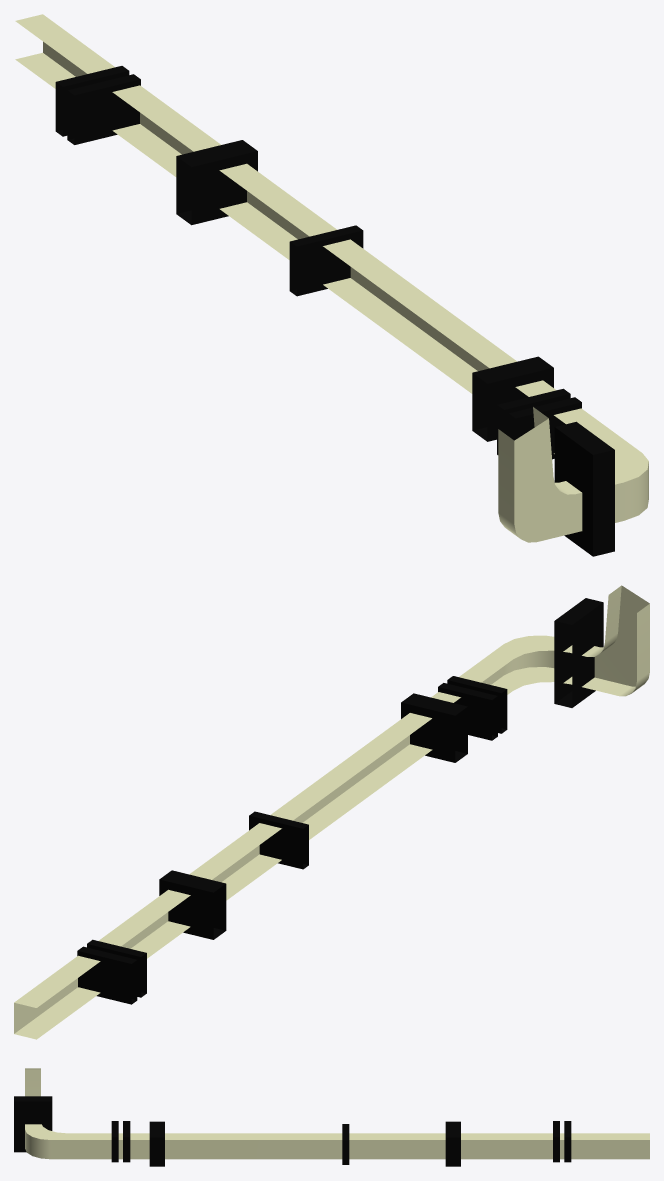
Rendered from Factory_Light_Tube.glb.
3 views of the same model, one above another, from view 1: azimuth 30°, elevation 25°; view 2: azimuth 150°, elevation 25°; view 3: azimuth 270°, elevation 25° (orthographic). The views are drawn at different scales.
Visible parts, largest first — view 1: luminoustube_01_geo; view 2: luminoustube_01_geo; view 3: luminoustube_01_geo.
Boxes of the visible parts, left/top/right/bottom form: luminoustube_01_geo: left=15, top=14, right=648, bottom=556; luminoustube_01_geo: left=14, top=585, right=649, bottom=1039; luminoustube_01_geo: left=14, top=1068, right=649, bottom=1166.
Size of what is drawn, in the model's own units: 2.5 by 1.99 by 16.58.
1 material, 1 textured.
